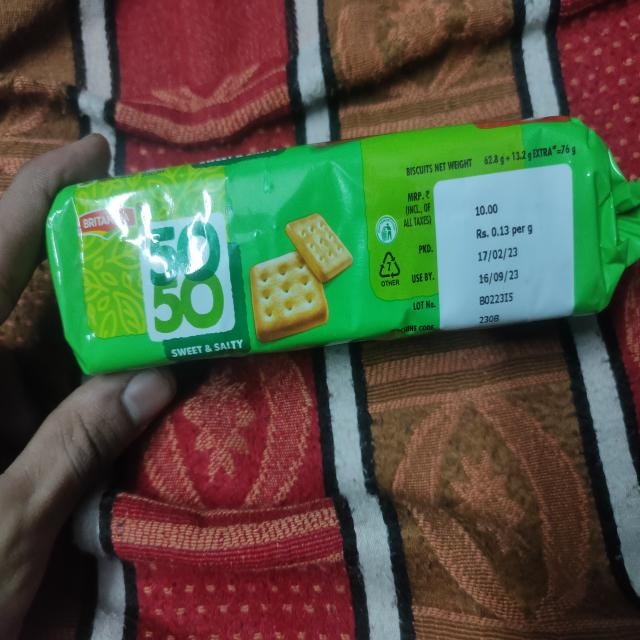50 50 biscuit: (39, 111, 640, 387)
